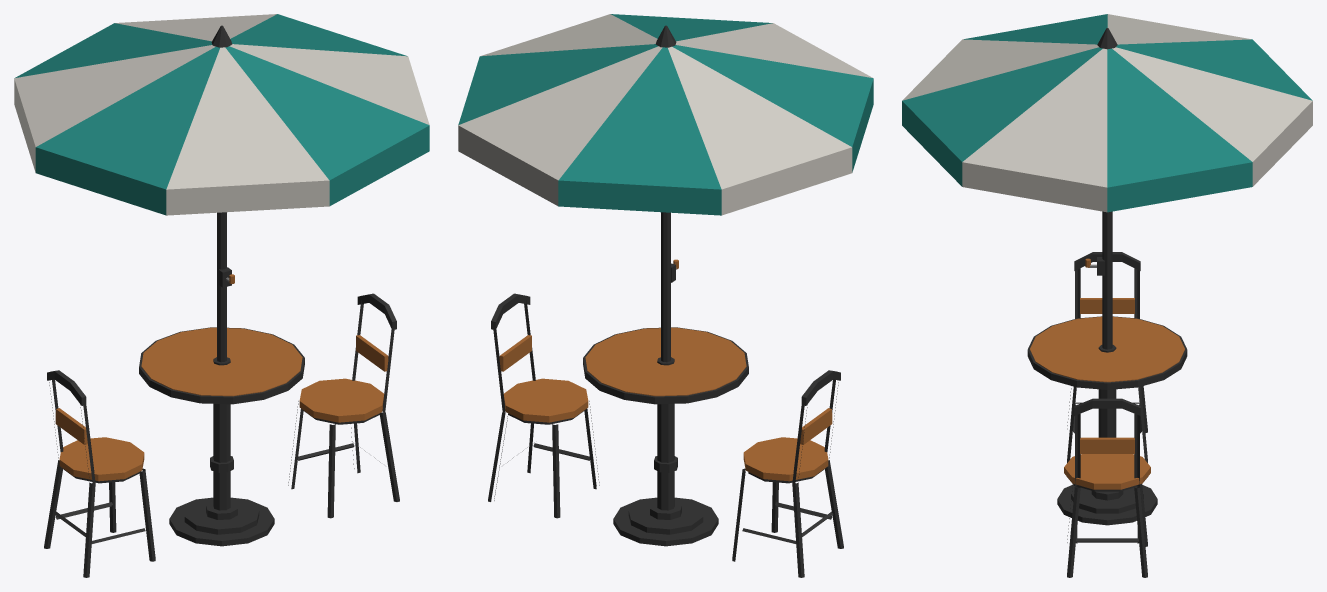
The model's file is kafe_seti_2.glb.
The picture shows the model from 3 angles, left to right: view 1: azimuth 30°, elevation 25°; view 2: azimuth 150°, elevation 25°; view 3: azimuth 270°, elevation 25°; orthographic projection. The views are drawn at different scales.
Parts seen in each view (by area): view 1: kafe_seti_2; view 2: kafe_seti_2; view 3: kafe_seti_2.
Boxes of the visible parts, left/top/right/bottom form: kafe_seti_2: left=14, top=14, right=429, bottom=577; kafe_seti_2: left=458, top=14, right=873, bottom=577; kafe_seti_2: left=902, top=14, right=1312, bottom=577.
Bounding box in the file's own units: 1.8 × 2.3 × 1.8.
